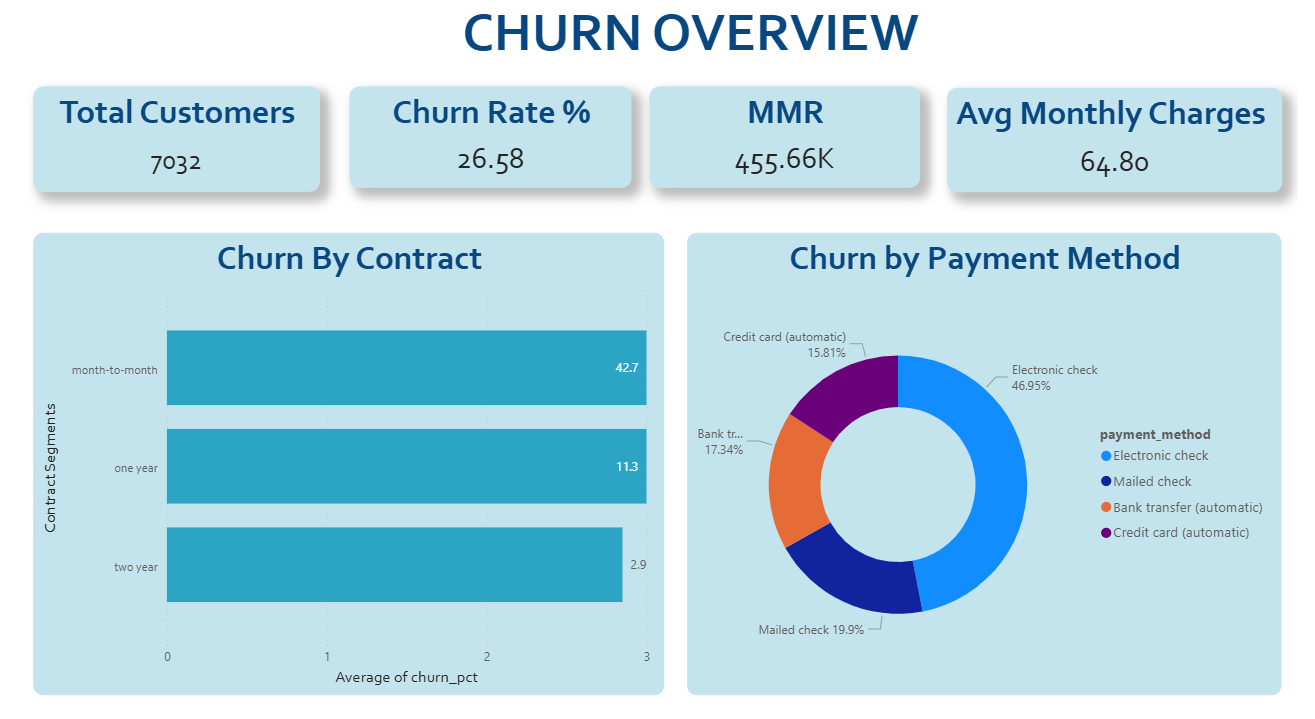

What the dashboard file says about the page in this screenshot:
{"tool":"powerbi","page":{"name":"Executive Summary","canvas":[1280,720],"ordinal":0},"visuals":[{"type":"card","title":"Churn Rate","fields":{"Values":["BaselineKPIs.Churn Rate %"]},"box":[340,95.7,278.6,100],"z":0},{"type":"card","title":"MMR","fields":{"Values":["BaselineKPIs.MRR"]},"box":[641.4,98.6,267.1,100],"z":1000},{"type":"card","title":"Avg Monthly Charges","fields":{"Values":["Sum(BaselineKPIs.avg_monthly_charges)"]},"box":[932.9,98.6,331.4,102.9],"z":2000},{"type":"clusteredBarChart","title":"Churn By Contract","fields":{"Category":["ChurnByContract.contract"],"Y":["Avg(ChurnByContract.churn_pct)"]},"box":[31.4,235.7,622.9,457.1],"z":3000},{"type":"donutChart","title":"Churn by Payment Method","fields":{"Category":["ChurnByPaymentmethod.payment_method"],"Y":["Sum(ChurnByPaymentmethod.churn_pct)"]},"box":[677.1,235.7,587.1,457.1],"z":4000},{"type":"textbox","box":[360,15.7,561.4,75.7],"z":5000},{"type":"card","title":"Total Customers","fields":{"Values":["Sum(BaselineKPIs.total_customers)"]},"box":[31.4,91.4,282.9,104.3],"z":5001},{"type":"textbox","box":[420,144.3,120,47.1],"z":5002}]}

Visuals, with their boxes in screenshot pixels (x1, y1, x2, y2), scaled from the page's 1280x720 canvas onto the 1315x719 screenshot:
"Churn Rate" card: l=349, t=96, r=636, b=195
"MMR" card: l=659, t=98, r=933, b=198
"Avg Monthly Charges" card: l=958, t=98, r=1299, b=201
"Churn By Contract" clusteredBarChart: l=32, t=235, r=672, b=692
"Churn by Payment Method" donutChart: l=696, t=235, r=1299, b=692
textbox: l=370, t=16, r=947, b=91
"Total Customers" card: l=32, t=91, r=323, b=195
textbox: l=431, t=144, r=555, b=191
